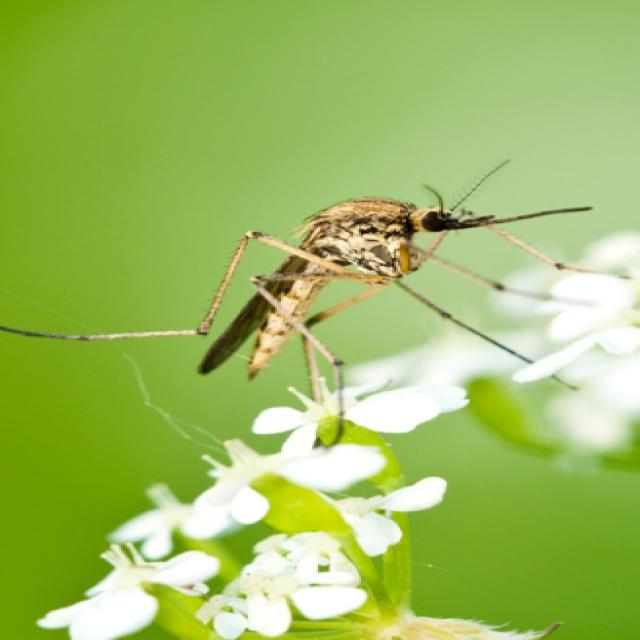Mosquito: (36, 140, 603, 448)
